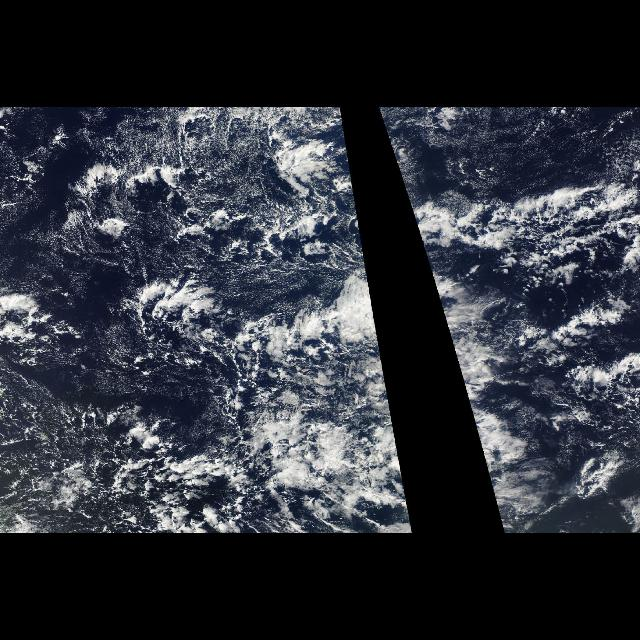Fish: (412, 185, 640, 289)
Gravel: (14, 120, 354, 296), (8, 361, 212, 531)
Sugar: (410, 118, 612, 192)
